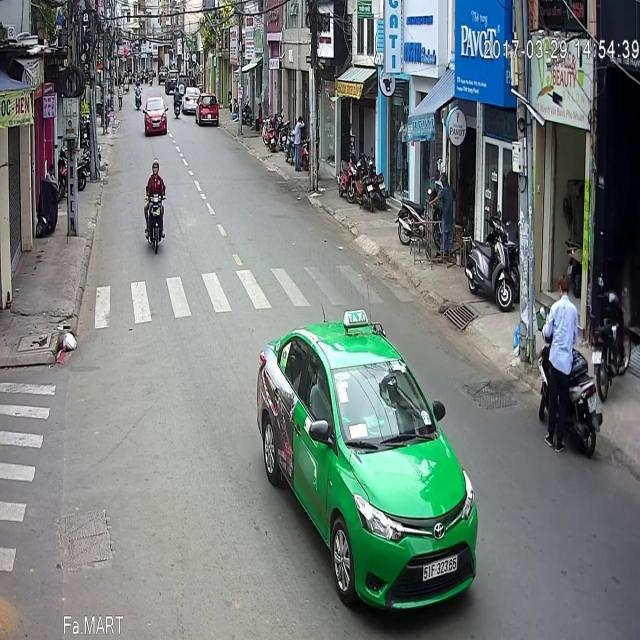car: (256, 250, 478, 609), (142, 38, 168, 78), (195, 34, 219, 68)
motorcycle: (144, 102, 166, 196)
